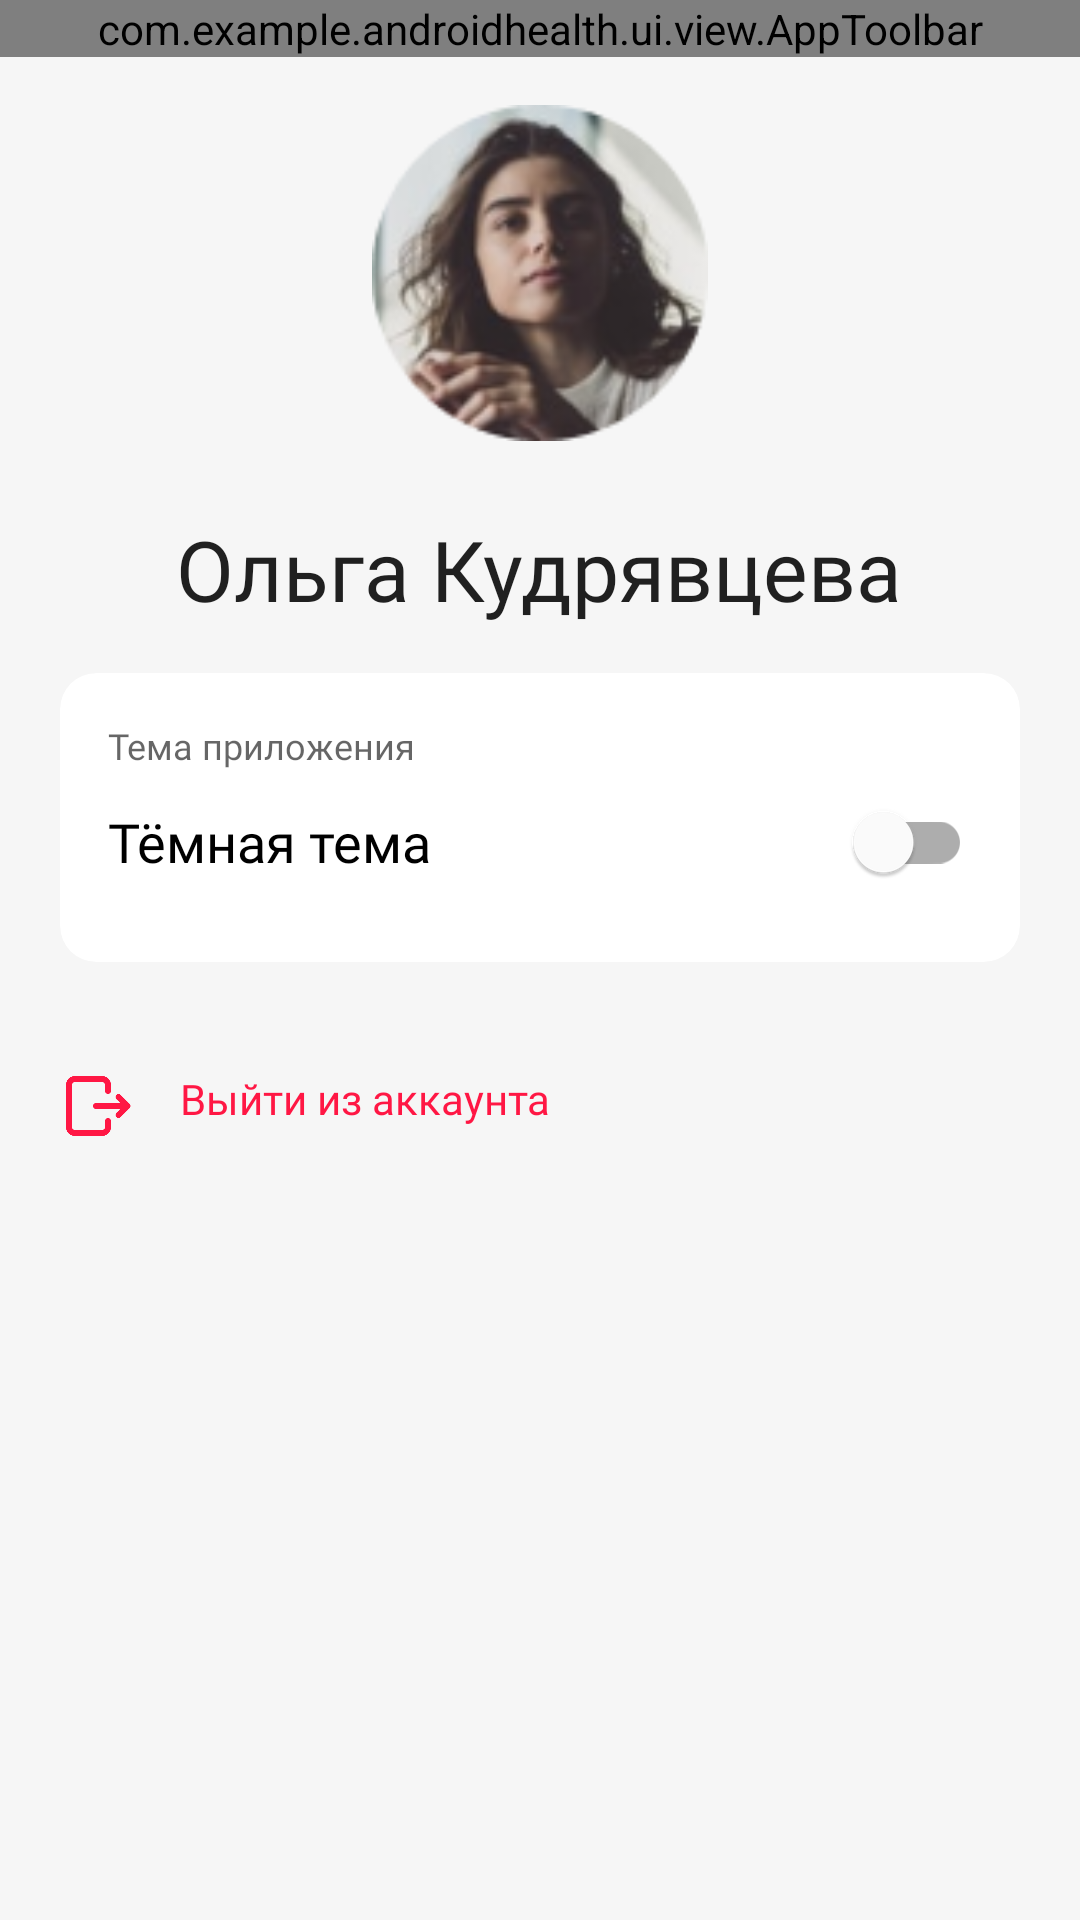

Icon click points for this 1080×1920 phone screenshot, format (x=x, y=y):
person: (x=538, y=273)
